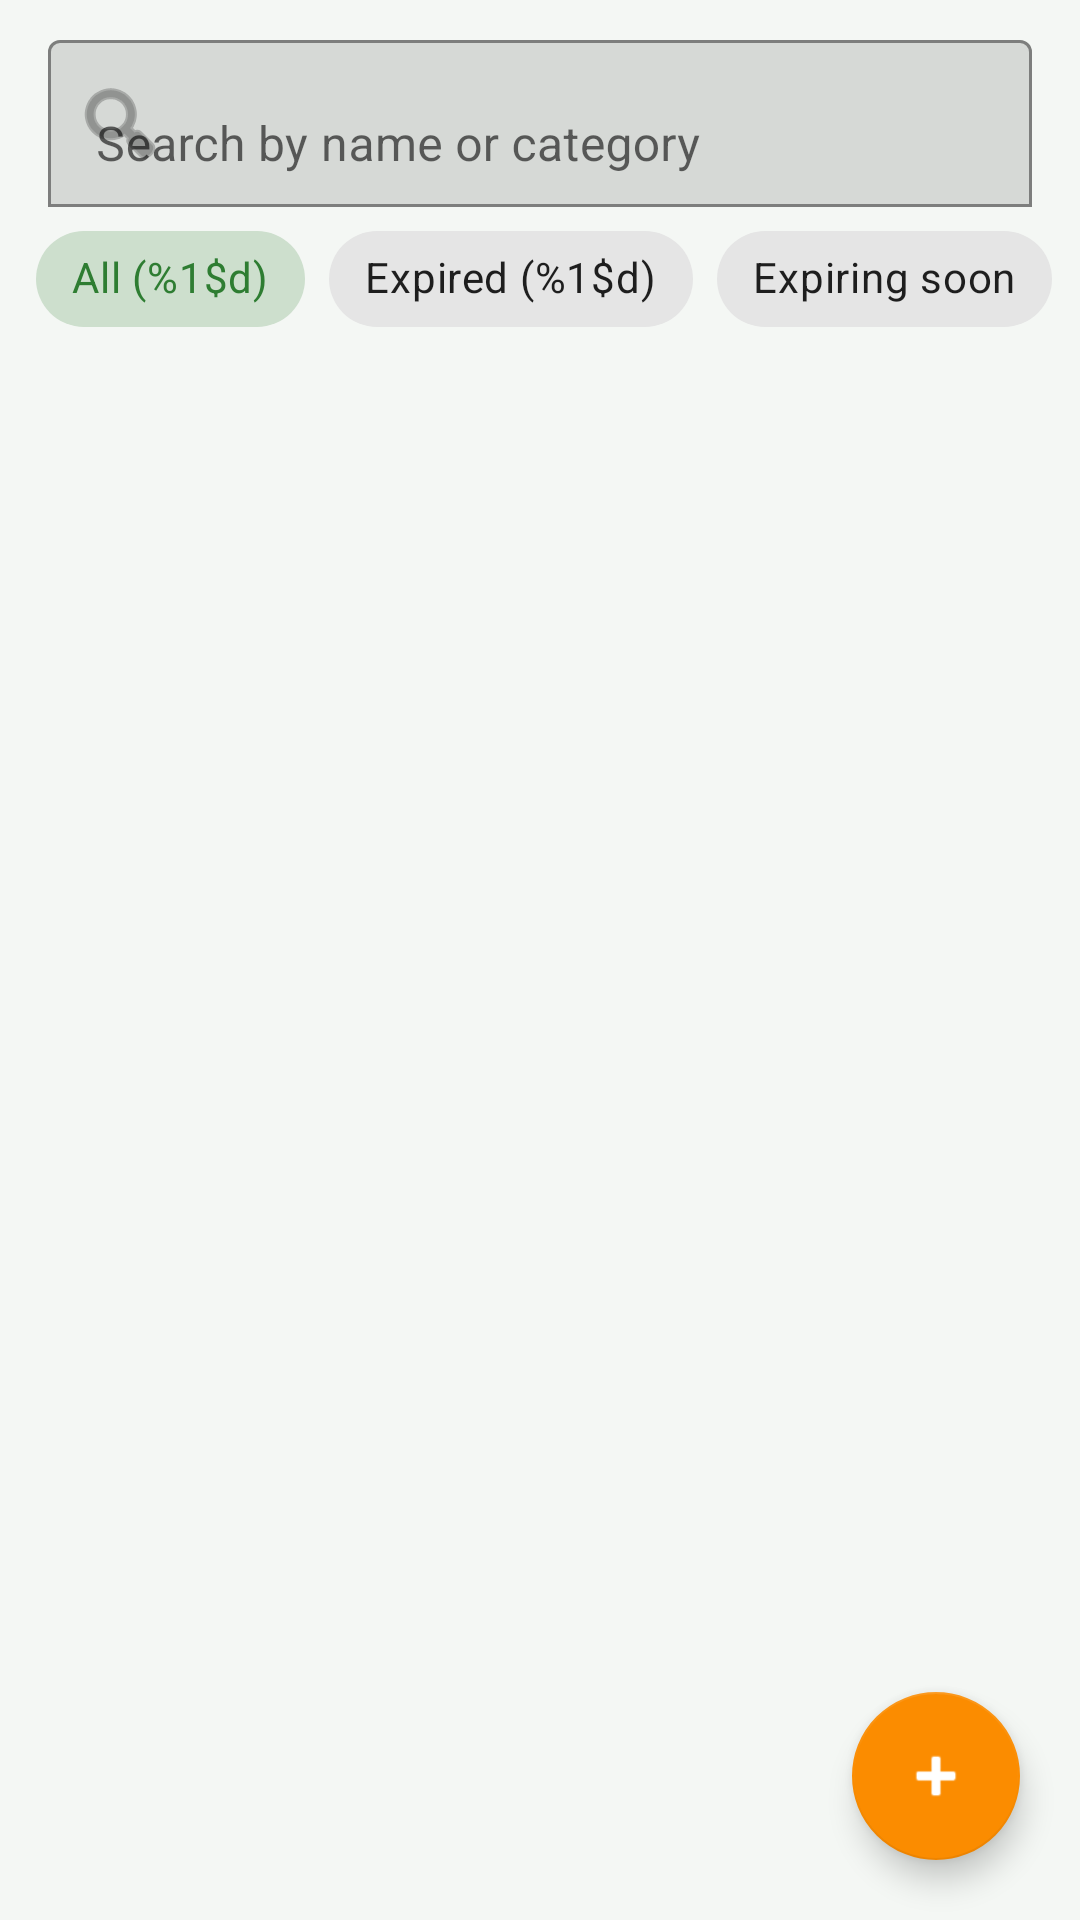

Icon bounding boxes for this 1080 x 1920 phone screenshot, format (x1, y1, x2, y2):
Add fruit: (852, 1692, 1020, 1860)
